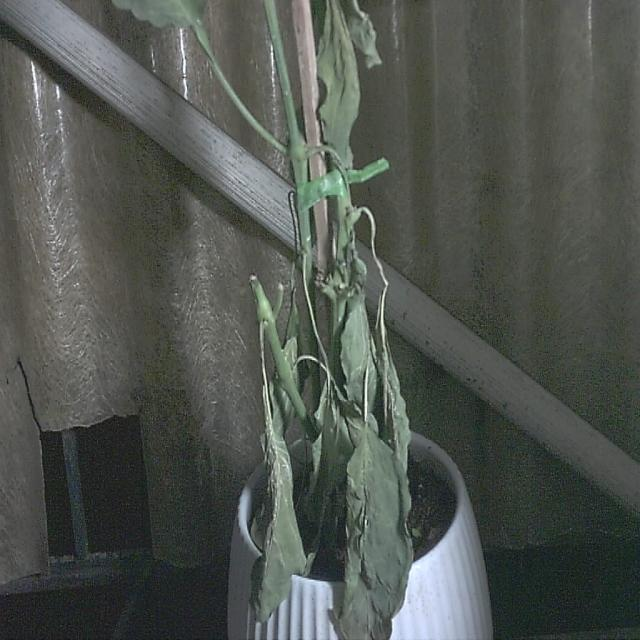Leaf: (334, 435, 411, 640)
